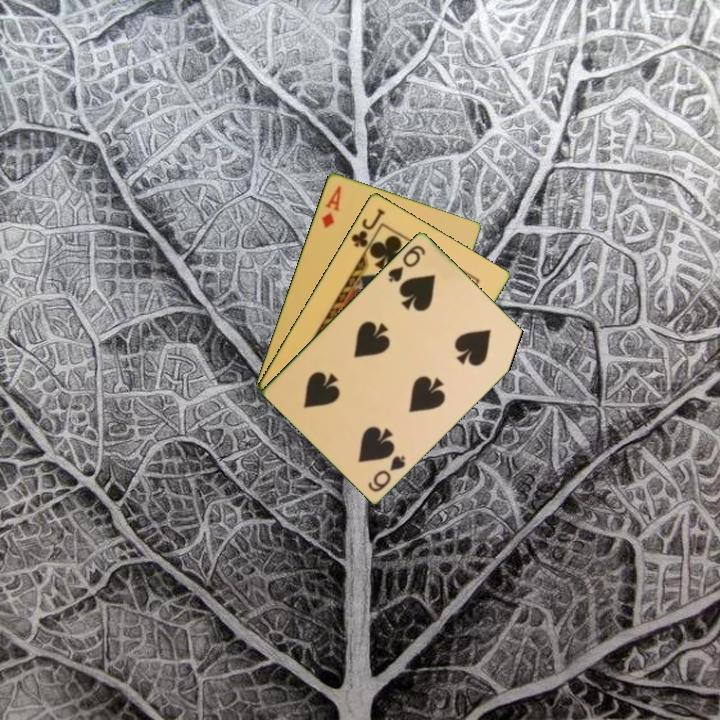6s: (384, 241, 428, 285), (364, 451, 408, 494)
Ad: (317, 182, 344, 230)
Jc: (347, 204, 388, 250)
